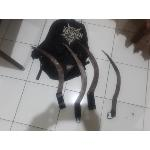Celurit: (20, 35, 70, 115), (94, 40, 126, 122), (62, 36, 90, 128), (74, 34, 104, 115)
